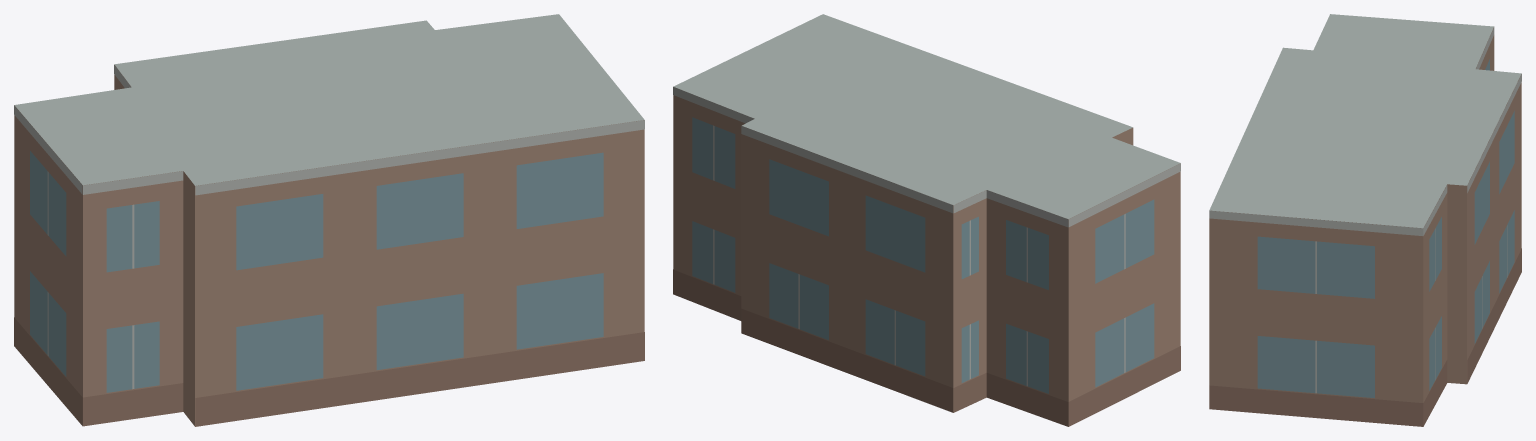
The model's file is survey-upis-32716626.glb.
The picture shows the model from 3 angles, left to right: view 1: azimuth 30°, elevation 25°; view 2: azimuth 150°, elevation 25°; view 3: azimuth 270°, elevation 25°; orthographic projection. The views are drawn at different scales.
Parts seen in each view (by area): view 1: survey-upis-32716626.tmp; view 2: survey-upis-32716626.tmp; view 3: survey-upis-32716626.tmp.
Part boxes in pixels (x1=…): survey-upis-32716626.tmp: x1=14, y1=14, x2=644, y2=426; survey-upis-32716626.tmp: x1=673, y1=14, x2=1180, y2=426; survey-upis-32716626.tmp: x1=1209, y1=14, x2=1521, y2=426.
Size of the model in its own units: 14.12 by 6.1 by 8.71.
